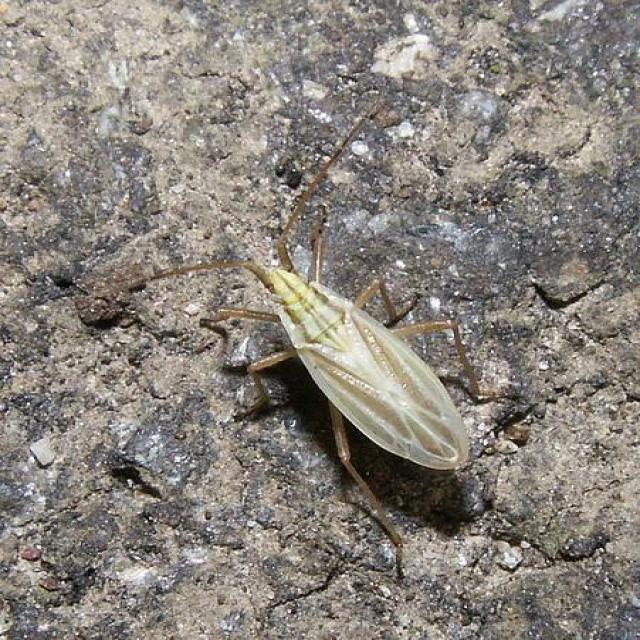Miridae-Adult-: (76, 101, 517, 540)
